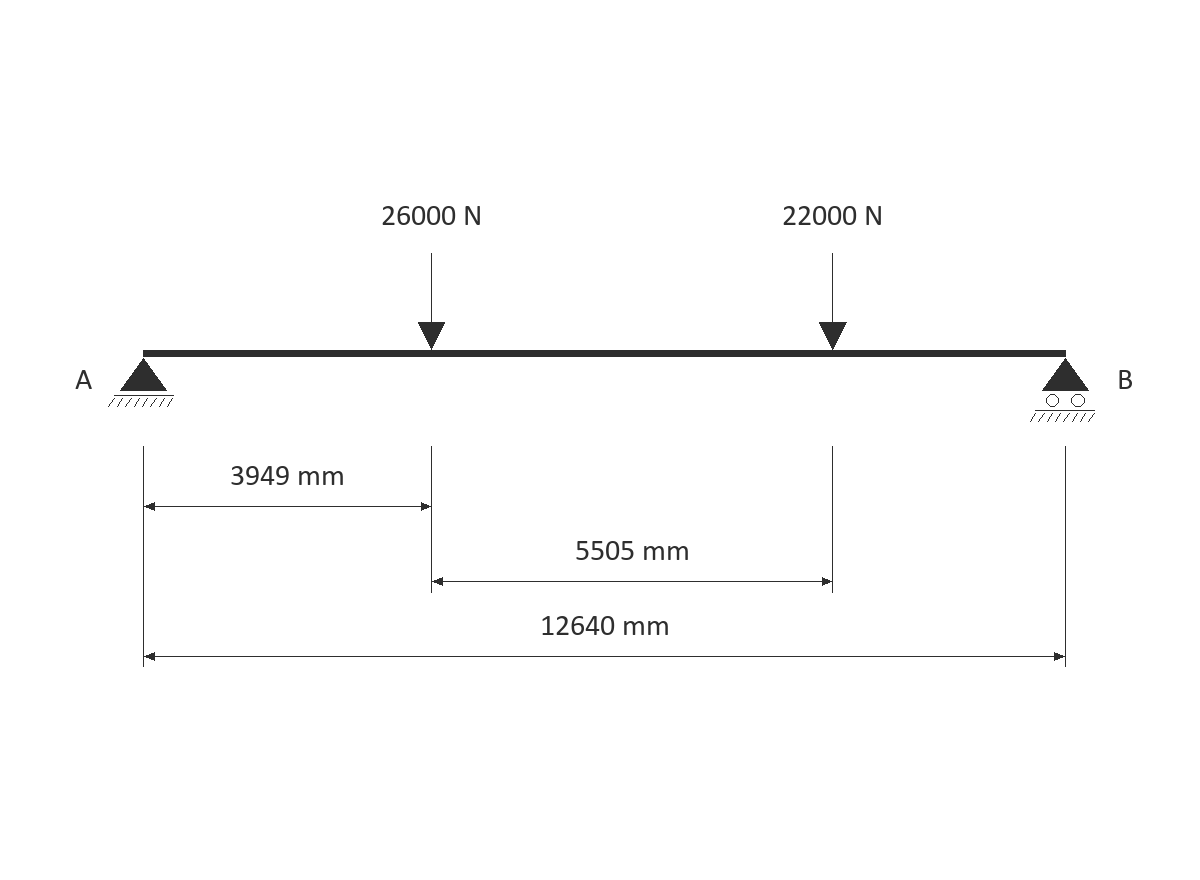pin_support: (108, 358, 174, 407)
point_load: (819, 253, 847, 350), (418, 253, 445, 350)
roller_support: (1030, 358, 1095, 422)
